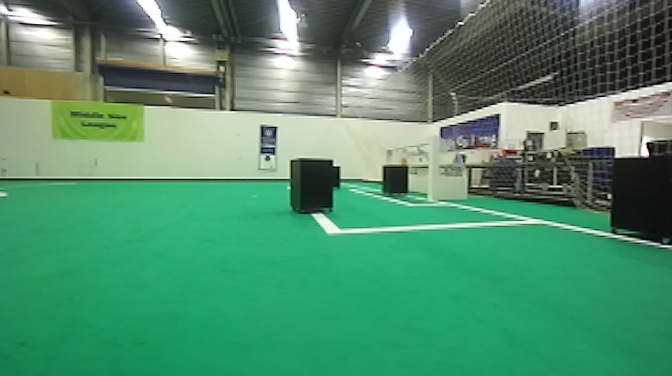goalpost: (425, 137, 436, 201), (386, 147, 393, 165)
